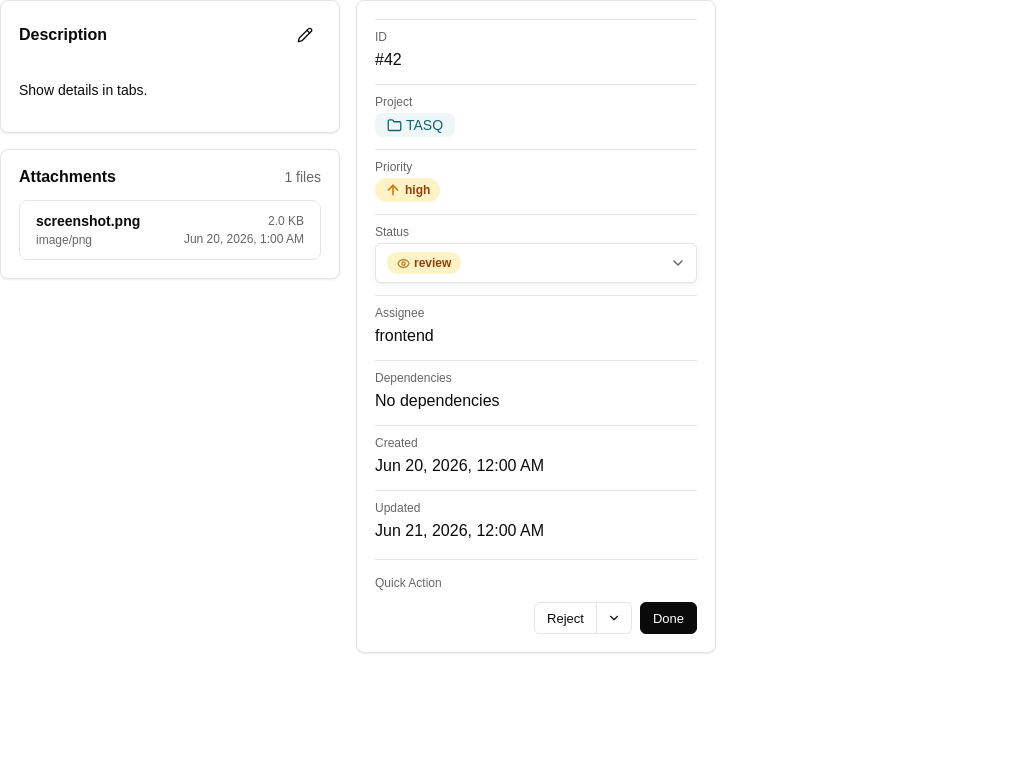
Test: IssueDetailPage › rejects a review issue with a change request
Step 1. Click the button "Reject" → (566, 618), box [534,602,597,634]
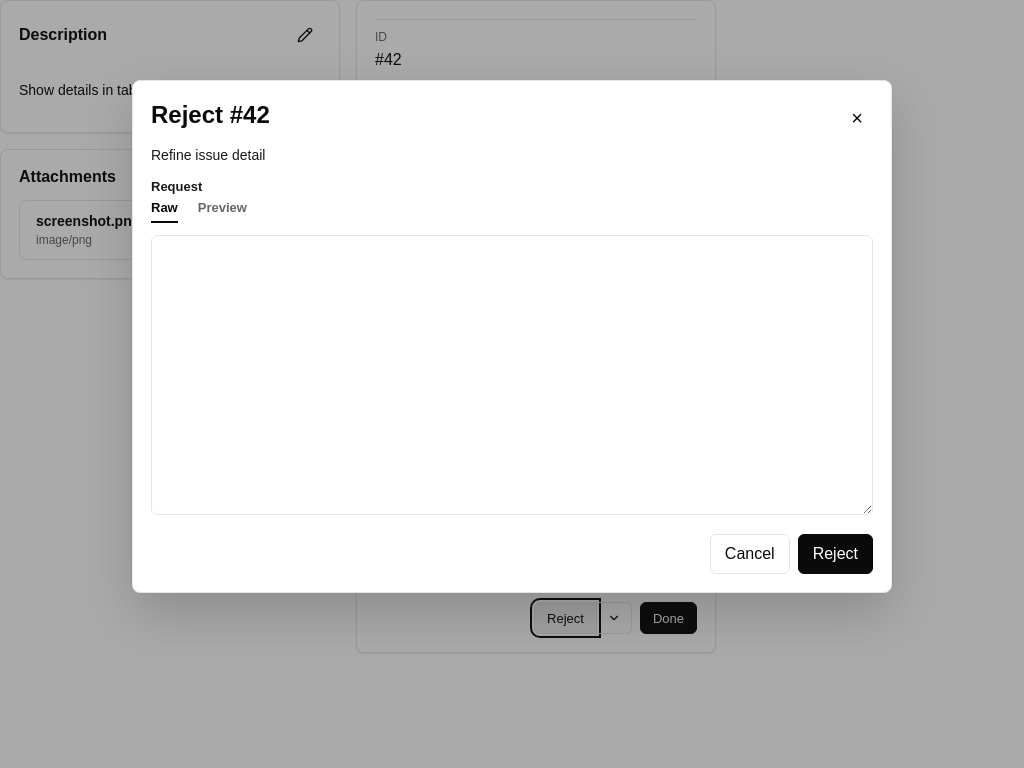
Step 2. Type "  Please cover the empty state  " into the text box named "Request" → (512, 375), box [151,235,873,515]
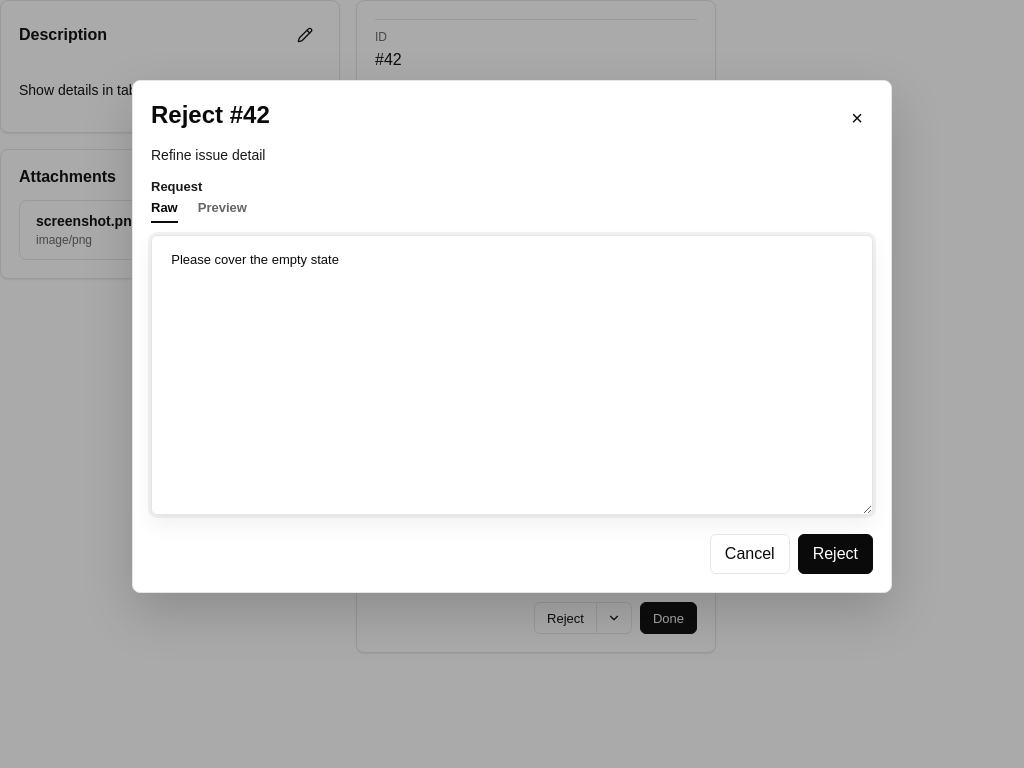
Step 3. Click the button "Reject" → (835, 554), box [798,534,873,574]
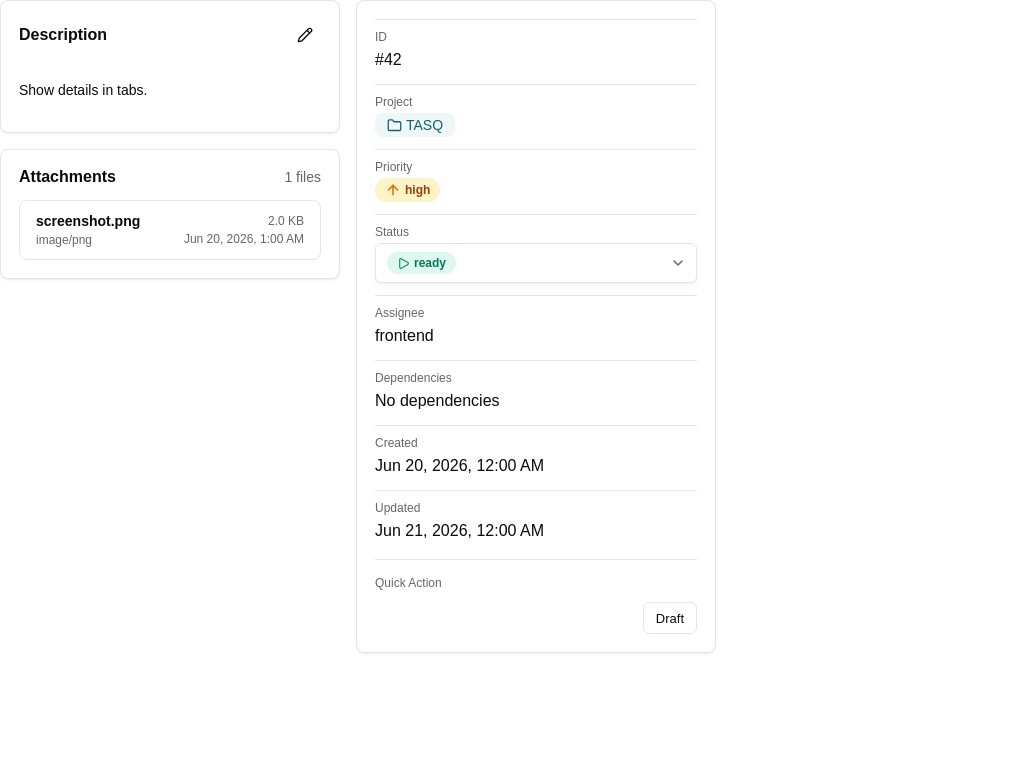
expect the button with aria-label "Change status" reads "ready": met, box [375,243,697,283]
expect the heading "Reject #42" is gone: met
